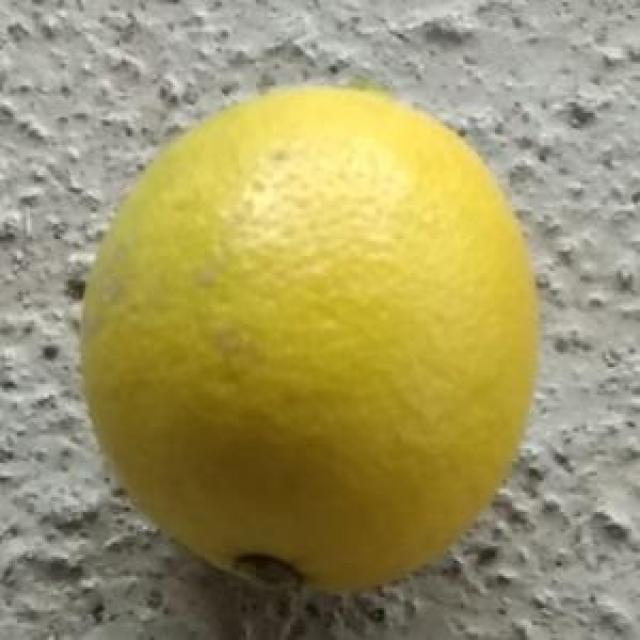lemon: (82, 86, 542, 592)
